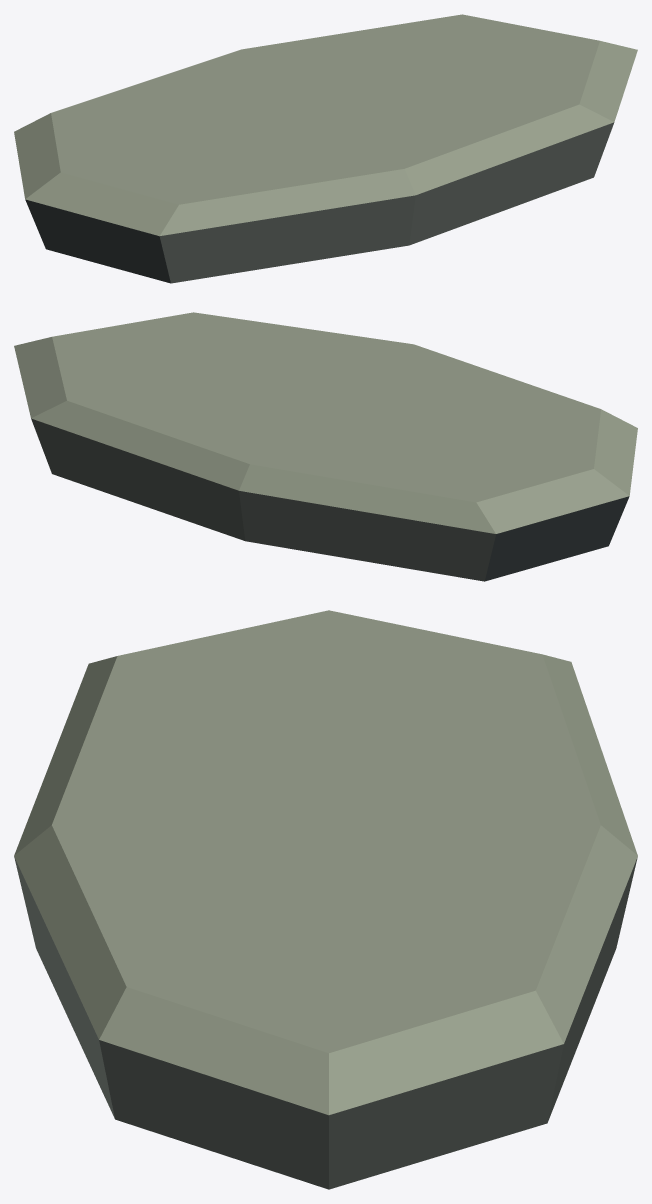
Rendered from TW_PAVER_LONG_A_LOD0.glb.
3 renders of one model, top to bottom at view 1: azimuth 30°, elevation 25°; view 2: azimuth 150°, elevation 25°; view 3: azimuth 270°, elevation 25°, orthographic. The views are drawn at different scales.
Visible parts, largest first — view 1: TW_PAVER_LONG_A_LOD0; view 2: TW_PAVER_LONG_A_LOD0; view 3: TW_PAVER_LONG_A_LOD0.
Part boxes in pixels (x1=…): TW_PAVER_LONG_A_LOD0: x1=14, y1=14, x2=637, y2=283; TW_PAVER_LONG_A_LOD0: x1=14, y1=312, x2=637, y2=581; TW_PAVER_LONG_A_LOD0: x1=14, y1=610, x2=637, y2=1189.
Bounding box in the file's own units: 1.05 × 0.12 × 0.55.
Materials: 1 (1 with a texture image).
